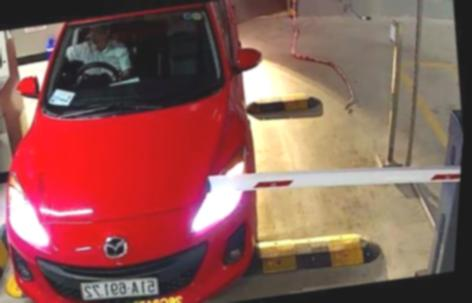License_Plate: (74, 269, 161, 302)
